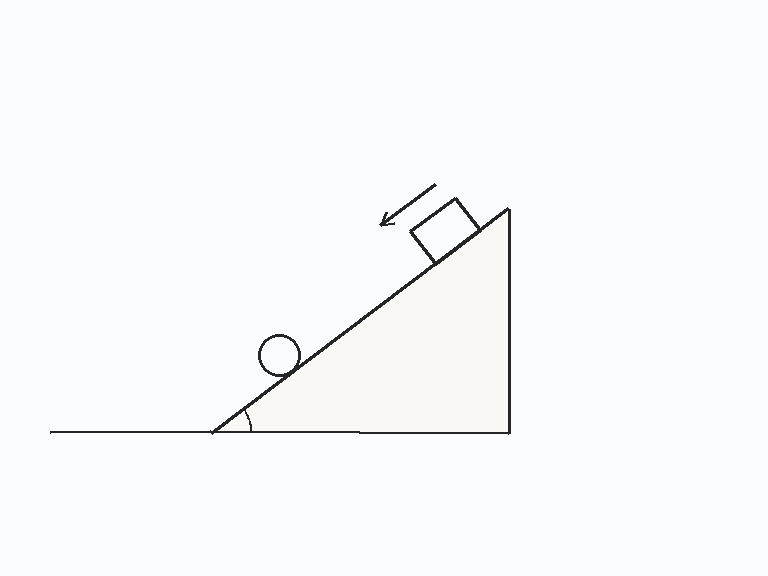ball: (256, 332, 302, 378)
block: (408, 195, 481, 265)
ramp: (209, 206, 510, 434)
